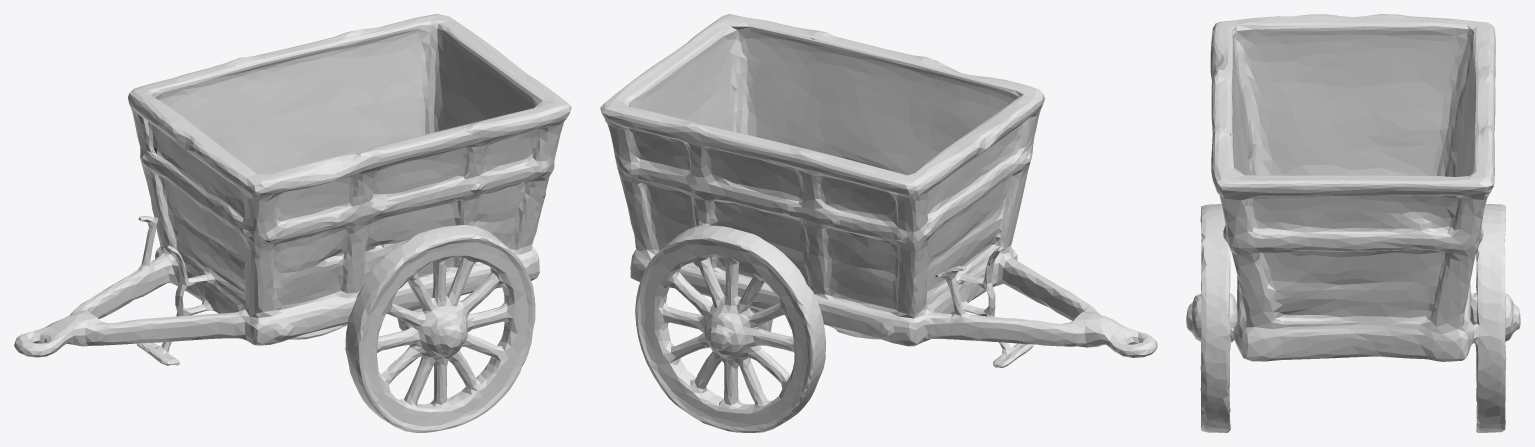
Rendered from mine_cart.glb.
3 renders of one model, left to right at view 1: azimuth 30°, elevation 25°; view 2: azimuth 150°, elevation 25°; view 3: azimuth 270°, elevation 25°, orthographic. The views are drawn at different scales.
Visible parts, largest first — view 1: Low; view 2: Low; view 3: Low.
Boxes of the visible parts, x1=… form: Low: x1=14, y1=14, x2=571, y2=432; Low: x1=600, y1=14, x2=1157, y2=432; Low: x1=1186, y1=14, x2=1520, y2=432.
Size of the model in its own units: 1.99 by 1.13 by 1.1.
1 material, 1 textured.
